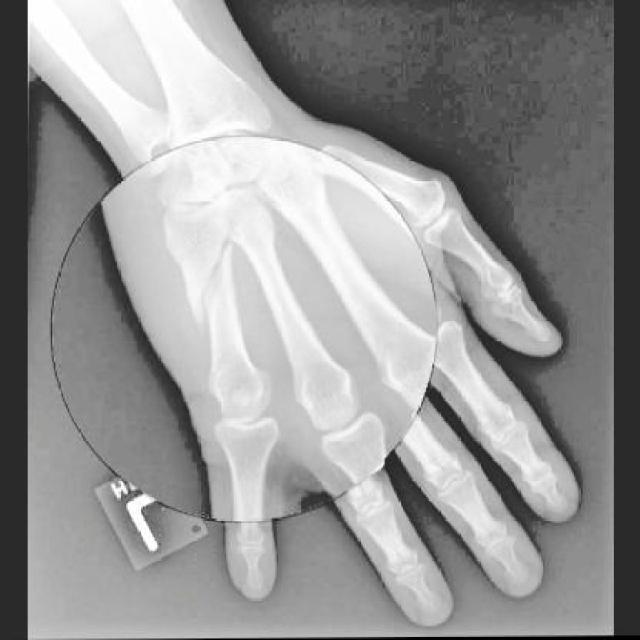Fracture: (176, 237, 239, 331)
